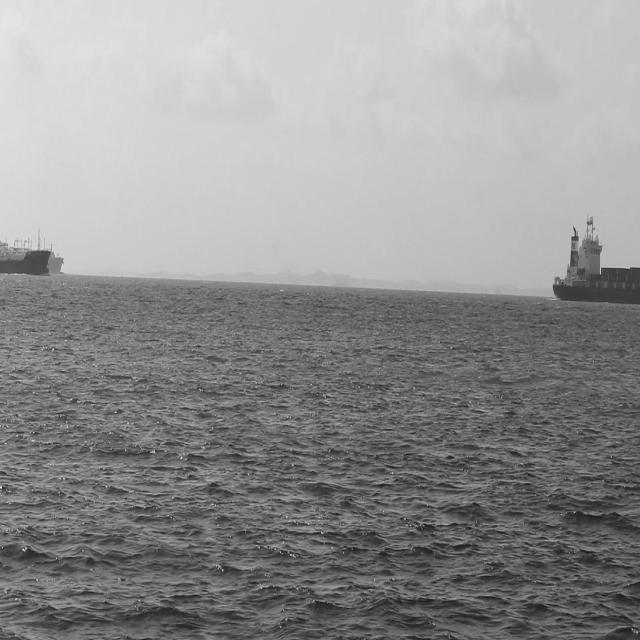ship: (548, 216, 640, 305), (1, 236, 52, 276), (50, 250, 64, 284)
